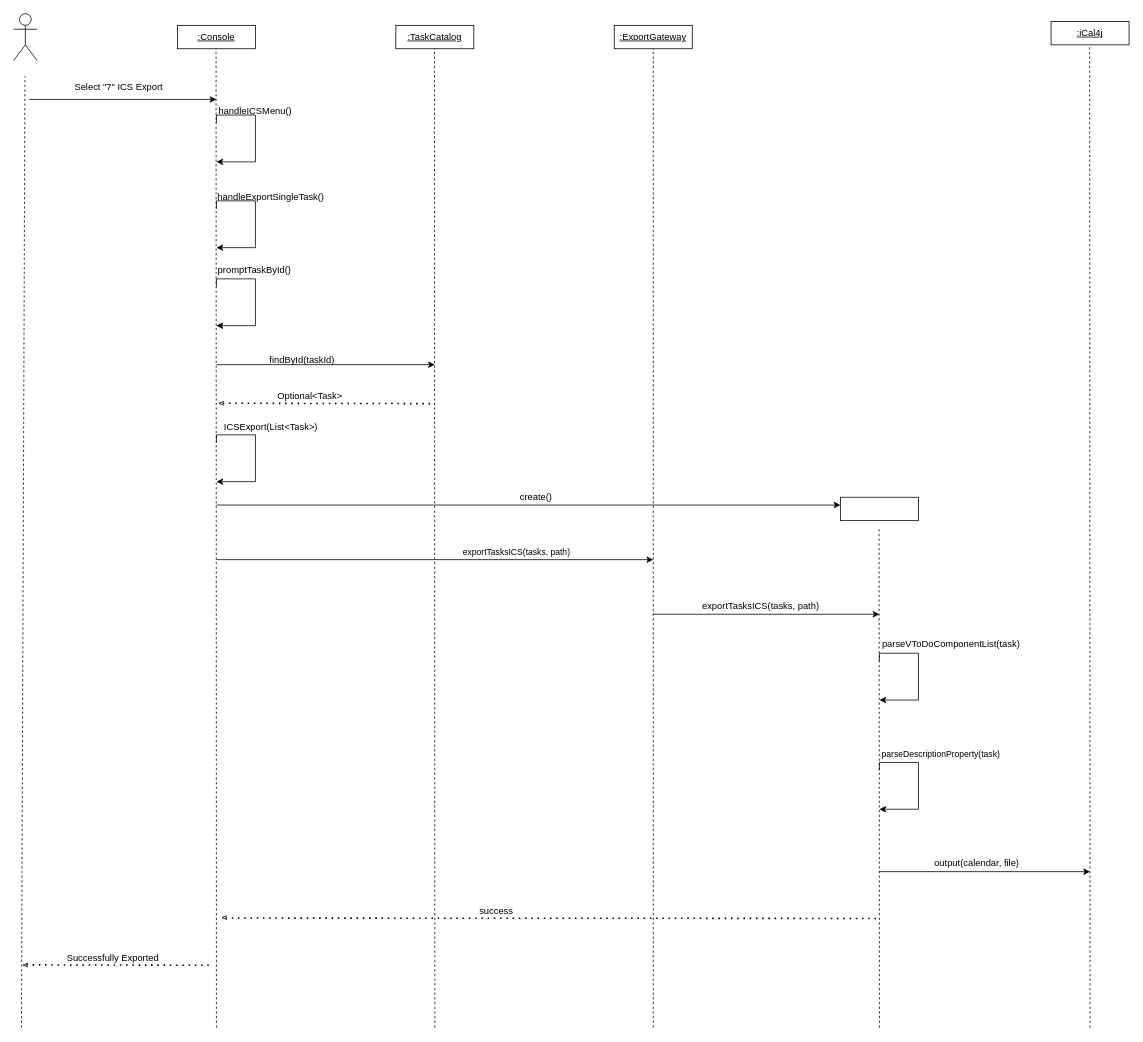
The diagram is 1143 pixels wide and 1042 high, and some of its shapes have lost their labels. Each missing label, with the box of its shape:
:CalendarUtil: (840, 496, 918, 521)
User: (13, 13, 37, 60)
